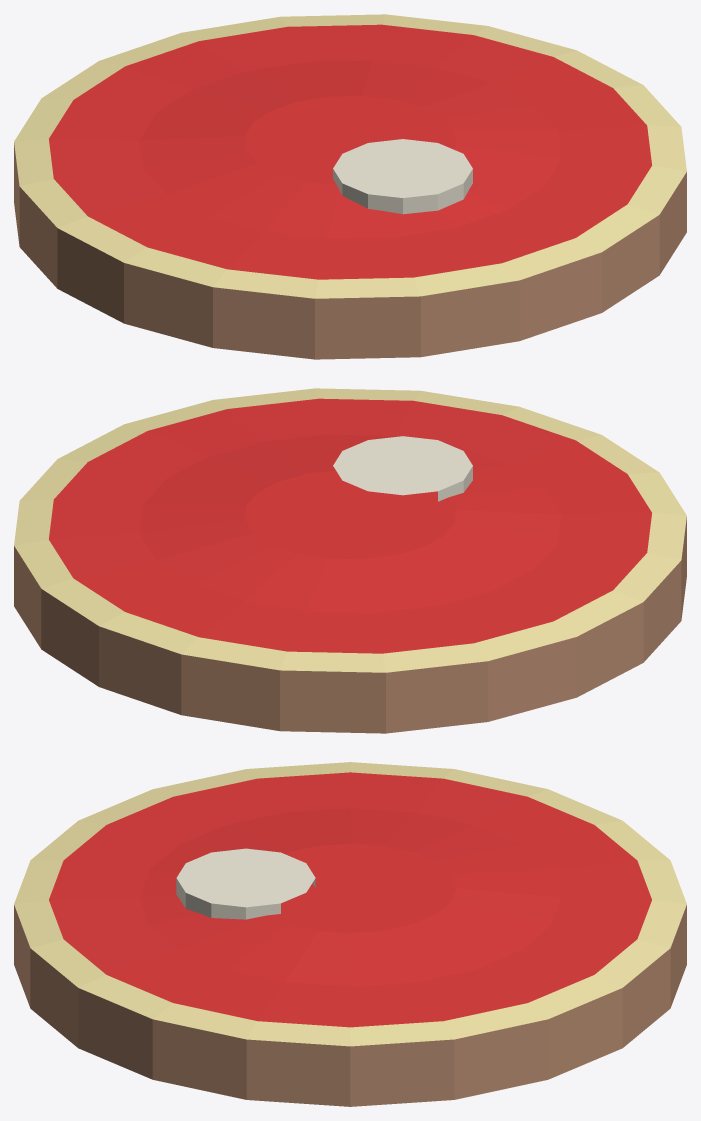
The model's file is cap_neck.glb.
The picture shows the model from 3 angles, top to bottom: view 1: azimuth 30°, elevation 25°; view 2: azimuth 150°, elevation 25°; view 3: azimuth 270°, elevation 25°; orthographic projection.
Visible parts, largest first — view 1: OUT; view 2: OUT; view 3: OUT.
Part boxes in pixels (box(x1,y1,x2,y2)): OUT: box(14, 14, 686, 359); OUT: box(14, 388, 686, 733); OUT: box(14, 762, 686, 1106).
Size of the model in its own units: 0.116 by 0.0165 by 0.116.
